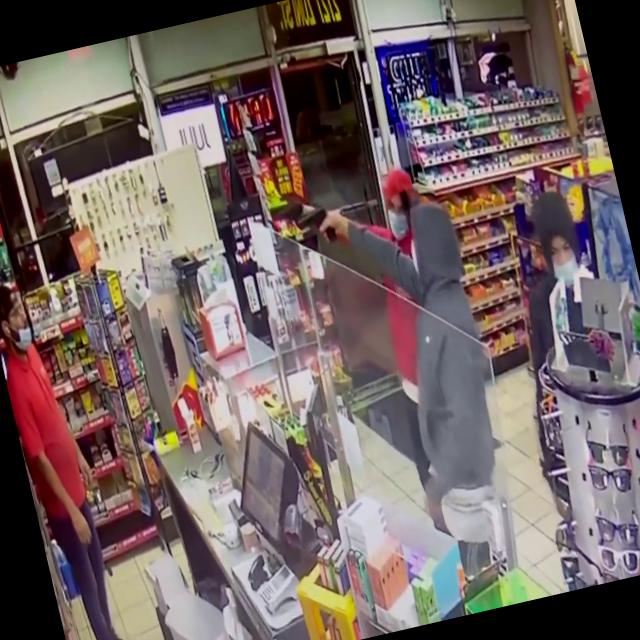handgun: (293, 196, 340, 258), (270, 190, 309, 240)
